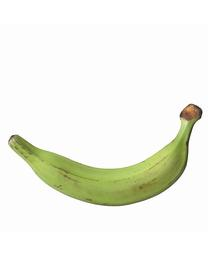banana: (9, 105, 204, 209)
